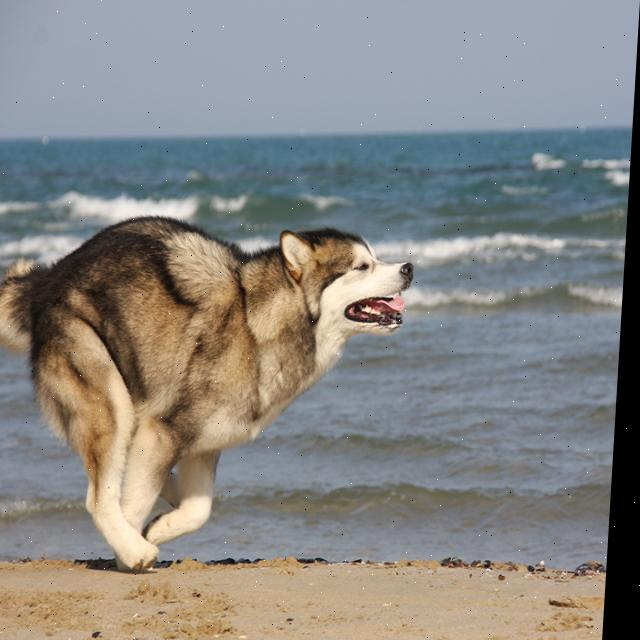ALASKAN_MALAMUTE: (0, 181, 440, 577)
